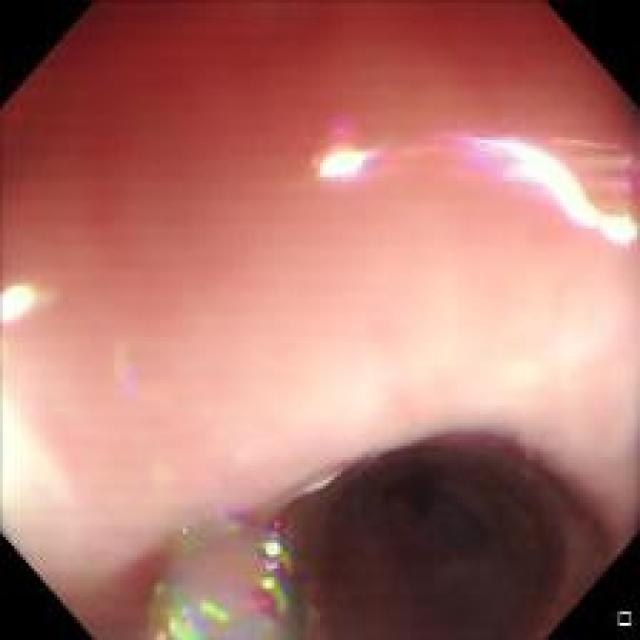color misalignment: (250, 518, 300, 634), (146, 578, 230, 639), (602, 134, 636, 254), (399, 421, 522, 452), (310, 116, 365, 149), (439, 126, 480, 168), (209, 506, 251, 542), (112, 354, 141, 401)
contrast: (305, 444, 604, 639)
saturation: (394, 268, 622, 409), (1, 389, 69, 535)
specularity: (481, 135, 638, 251), (311, 146, 372, 182), (0, 282, 36, 322)
